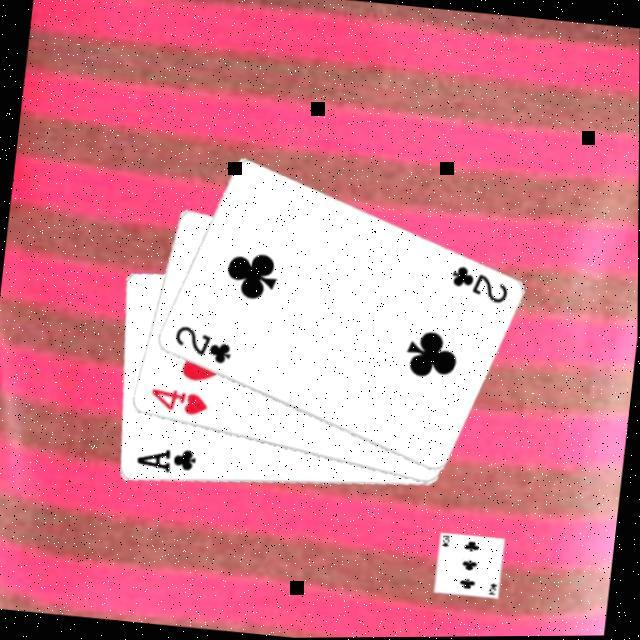2C: (169, 322, 237, 368), (446, 262, 513, 308)
4H: (146, 385, 212, 421)
AC: (133, 442, 200, 480)
